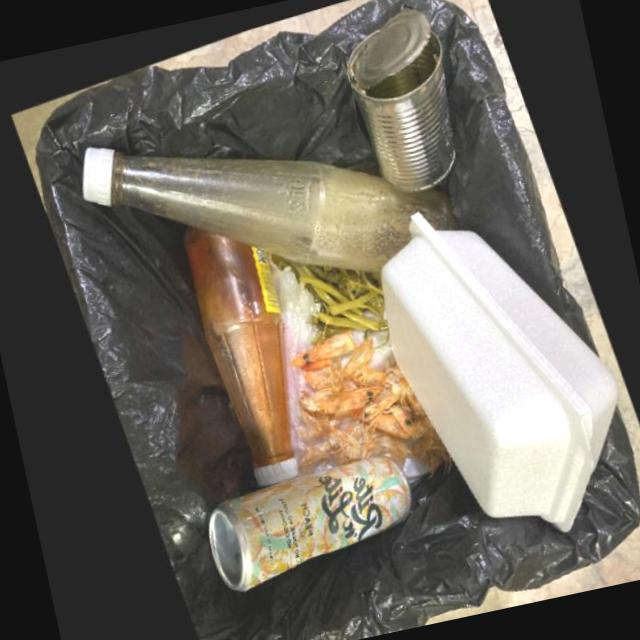chai_thuy_tinh: (77, 138, 451, 267), (178, 218, 289, 480)
nhom: (198, 450, 401, 584), (344, 1, 451, 188)
thuc_an_thua: (289, 338, 442, 471), (283, 324, 350, 366)
vo_rau_cu: (268, 250, 381, 340)
xop: (374, 207, 609, 531)
